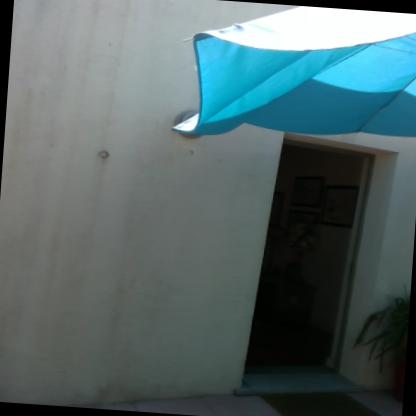open: (235, 126, 402, 412)
